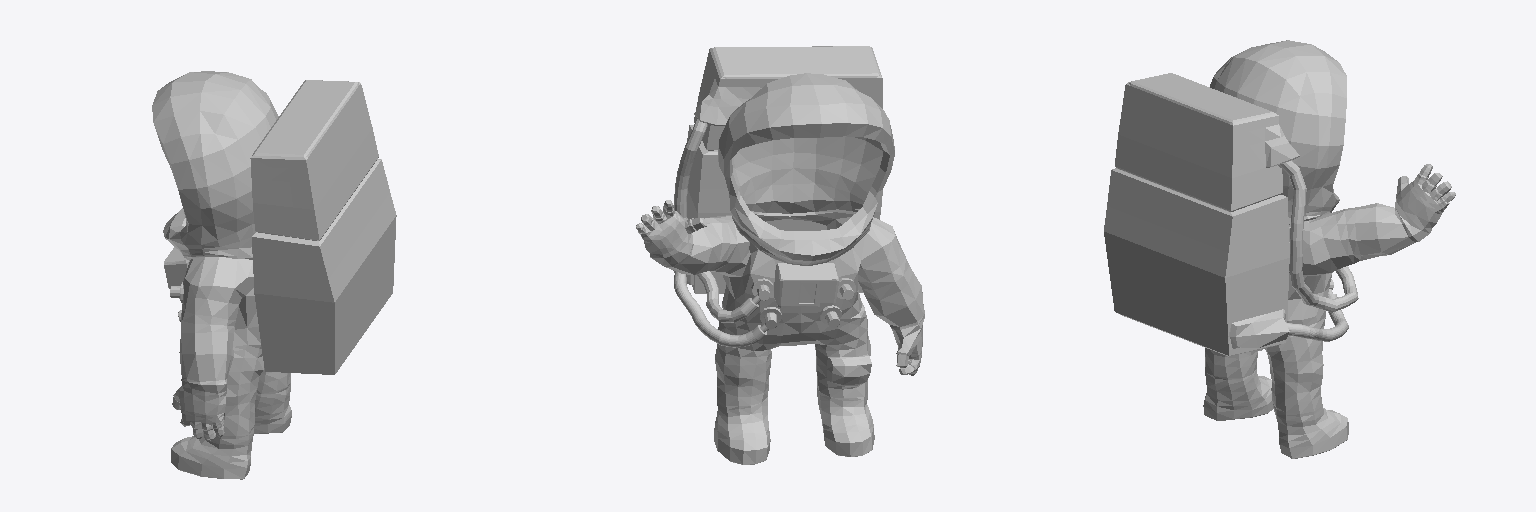
The model's file is astronaut-body.obj.
The picture shows the model from 3 angles: view 1: azimuth 30°, elevation 25°; view 2: azimuth 150°, elevation 25°; view 3: azimuth 270°, elevation 25°; orthographic projection.
Visible parts, largest first — view 1: Retopo_Suit; view 2: Retopo_Suit; view 3: Retopo_Suit.
Part boxes in pixels (x1,y1,x2,y2): Retopo_Suit: (152,71,396,479); Retopo_Suit: (636,46,924,464); Retopo_Suit: (1104,40,1455,458).
Bounding box in the file's own units: 0.436 × 0.6794 × 0.5879.